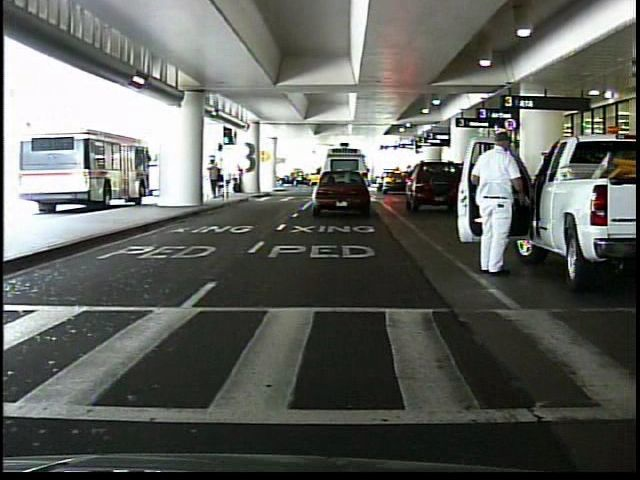person: (471, 128, 526, 278), (208, 155, 223, 202), (231, 163, 247, 198)
